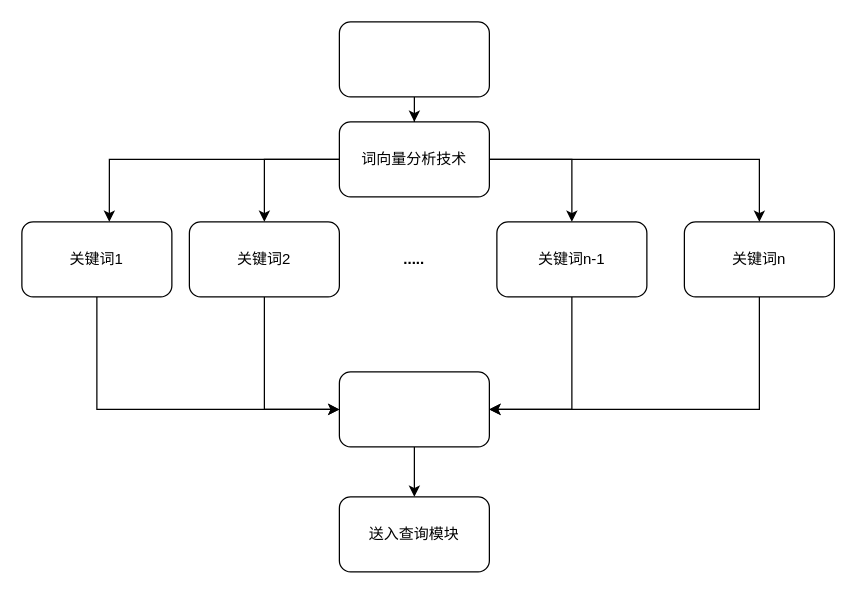
Some shapes in this 856 by 594 pixel diagram are drawn without their labels. The centre of each missing label's shape, as x and y in pixels:
"用户提供的关键词" belongs at point 413,59.
"综合评估" belongs at point 413,409.
